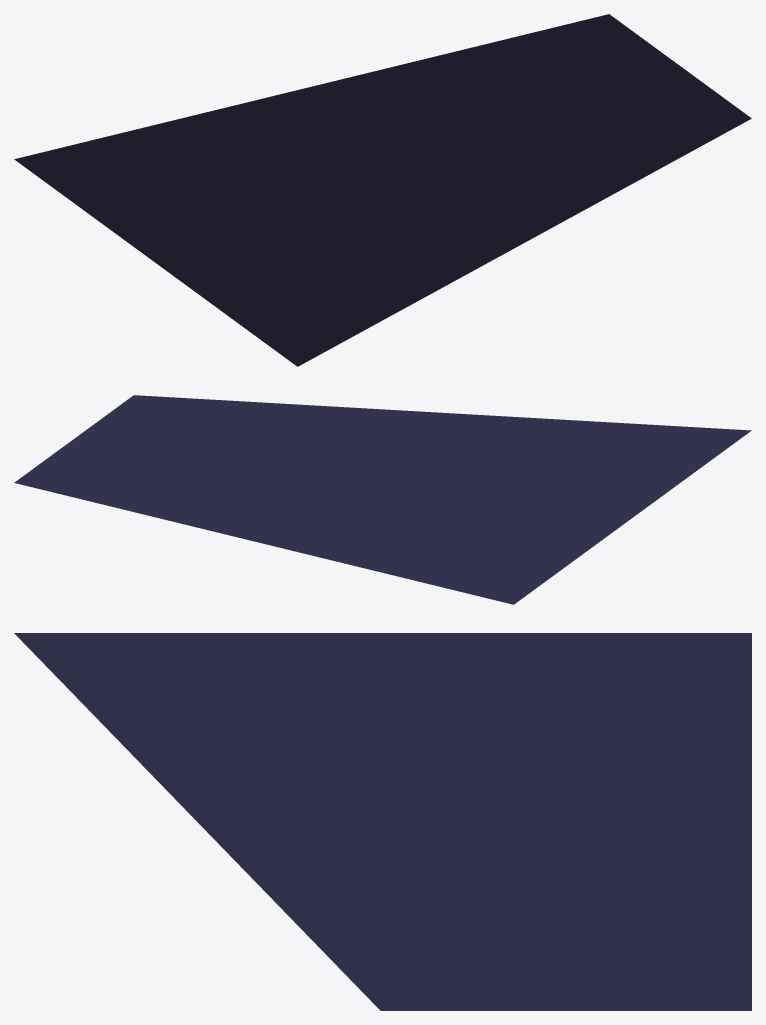
3 renders of one model, top to bottom at view 1: azimuth 30°, elevation 25°; view 2: azimuth 150°, elevation 25°; view 3: azimuth 270°, elevation 25°, orthographic. The views are drawn at different scales.
Visible parts, largest first — view 1: Joint_0_Object_0; view 2: Joint_0_Object_0; view 3: Joint_0_Object_0.
Part boxes in pixels (box(x1,y1,x2,y2)): Joint_0_Object_0: box(14, 14, 751, 366); Joint_0_Object_0: box(14, 395, 751, 604); Joint_0_Object_0: box(14, 633, 751, 1010).
Size of the model in its own units: 1021 by 0 by 843.
1 material, 1 textured.
